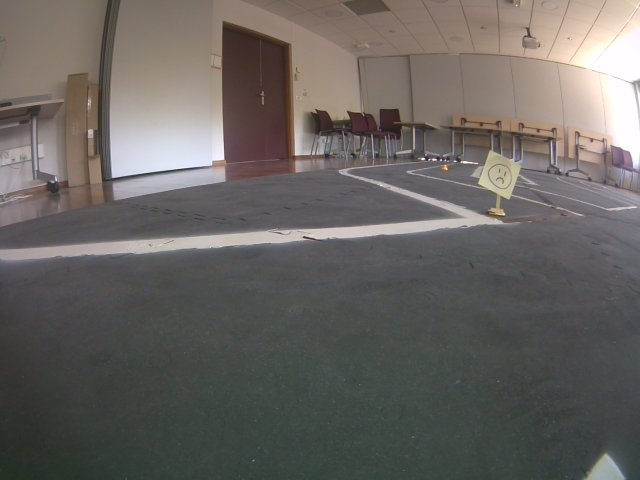Smiley: (478, 150, 524, 200)
